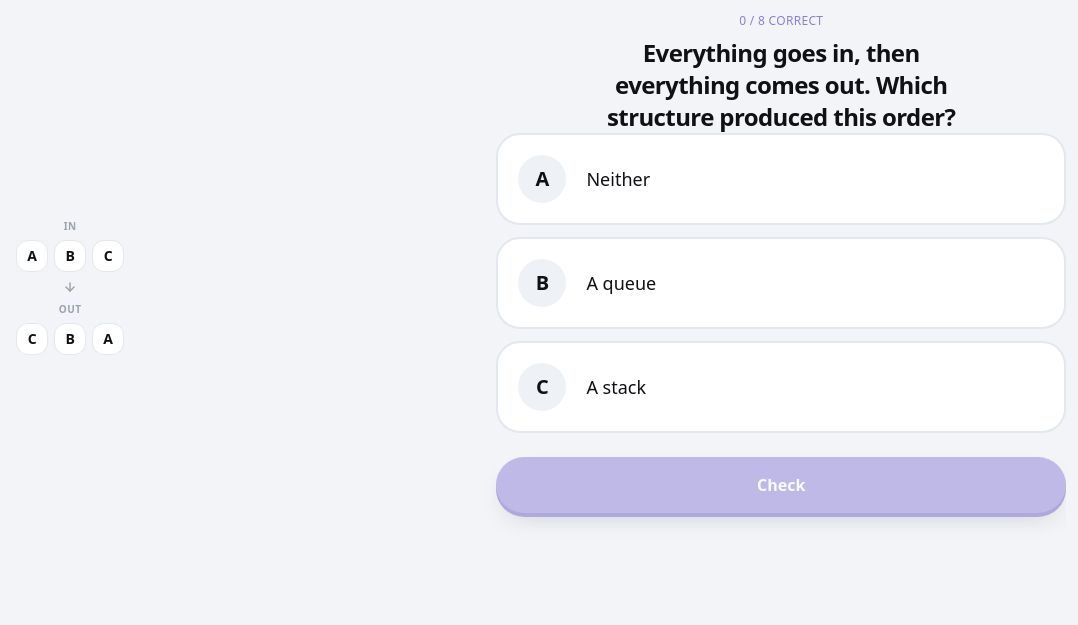
S&Q stage: compare resolving motion › classify shows no verdict until answered, then plays the resolve
Expected: the element with test id "classify-replay" is shown, [16, 219, 124, 355]
What coordinates should you click on to do the following:
click the button "C A stack"
I would click on:
 (542, 387)
Its box is [496, 341, 1066, 433].
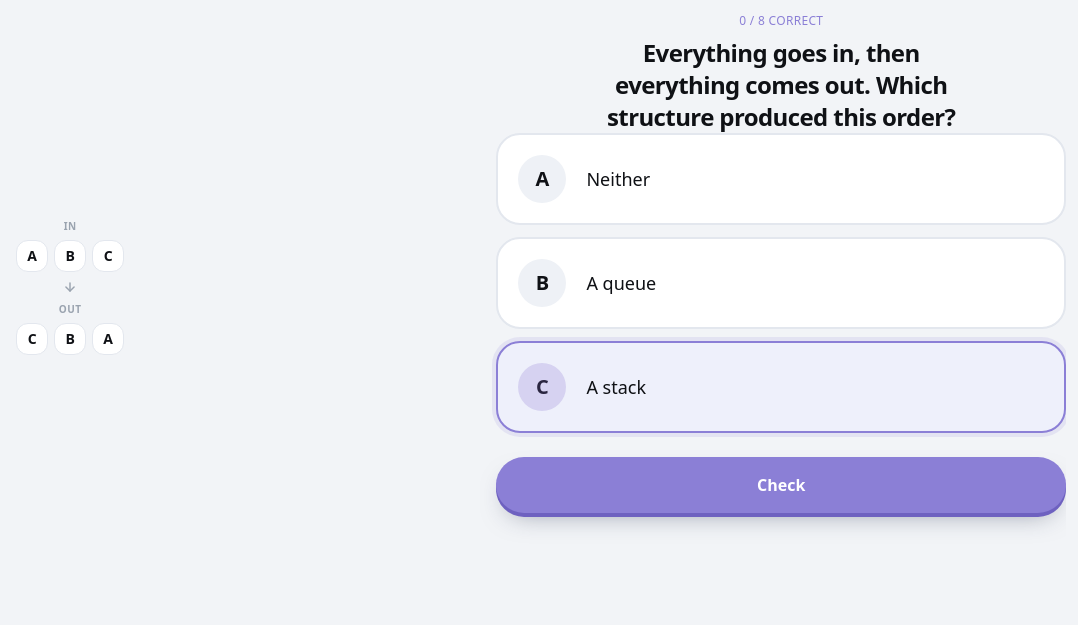
What coordinates should you click on to do the following:
click the button "Check"
I would click on:
 (781, 485)
Its box is [496, 457, 1066, 513].
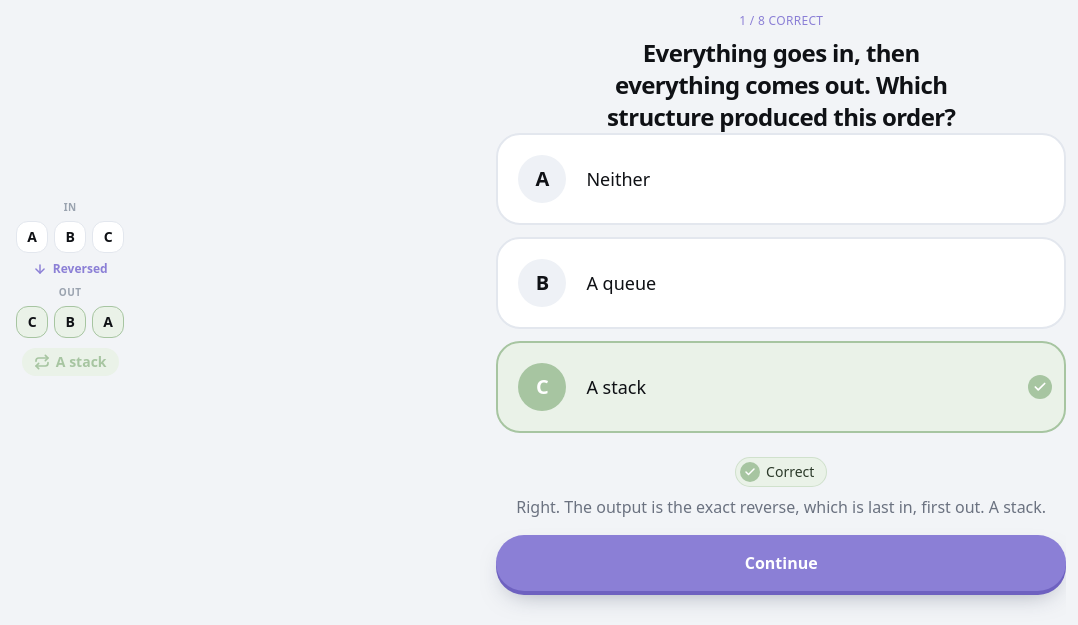
Result: the element with test id "classify-verdict" is shown at [22, 348, 119, 376]
